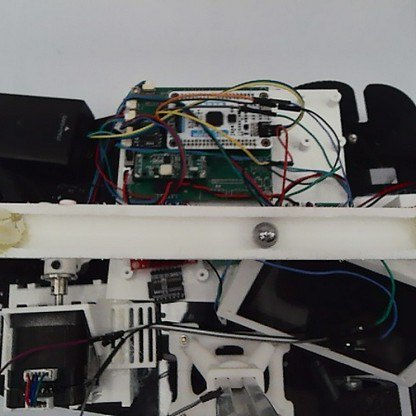ironball: (249, 219, 279, 249)
